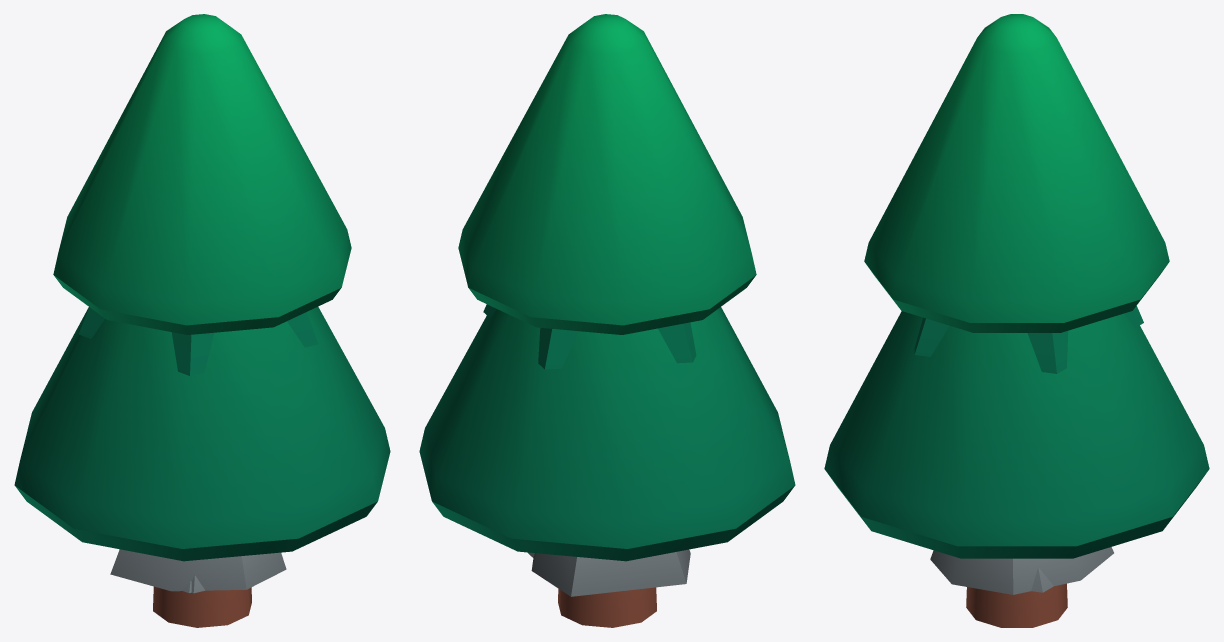
File: nature.glb
3 views of the same model, side by side, from view 1: azimuth 30°, elevation 25°; view 2: azimuth 150°, elevation 25°; view 3: azimuth 270°, elevation 25° (orthographic).
Visible parts, largest first — view 1: tree_single_B, rock_single_C, tree_single_A; view 2: tree_single_B, rock_single_C, tree_single_A; view 3: tree_single_B, rock_single_C, tree_single_A.
Part boxes in pixels (x1,y1,x2,y2): tree_single_B: (14, 14, 390, 627); rock_single_C: (110, 549, 286, 591); tree_single_A: (79, 307, 318, 375); tree_single_B: (419, 14, 795, 627); rock_single_C: (531, 549, 690, 596); tree_single_A: (483, 304, 696, 369); tree_single_B: (824, 14, 1209, 627); rock_single_C: (930, 547, 1113, 594); tree_single_A: (914, 306, 1143, 373).
Size of the model in its own units: 0.6849 by 1.22 by 0.7201.
1 material, 1 textured.
